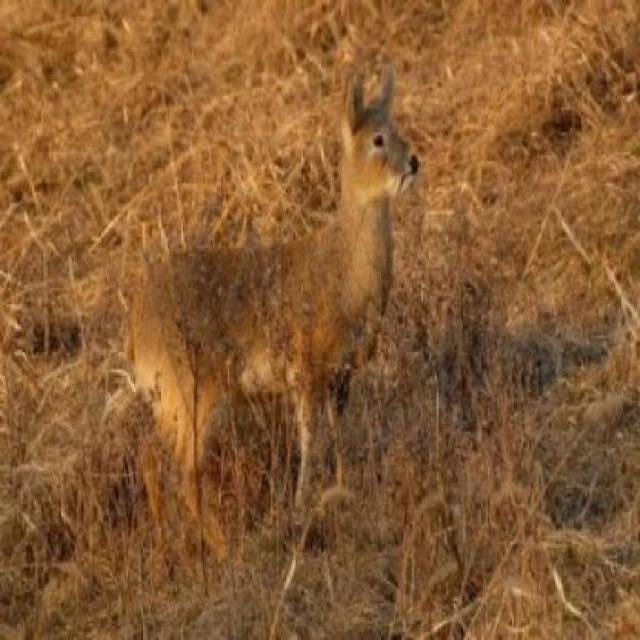deer: (115, 63, 422, 548)
